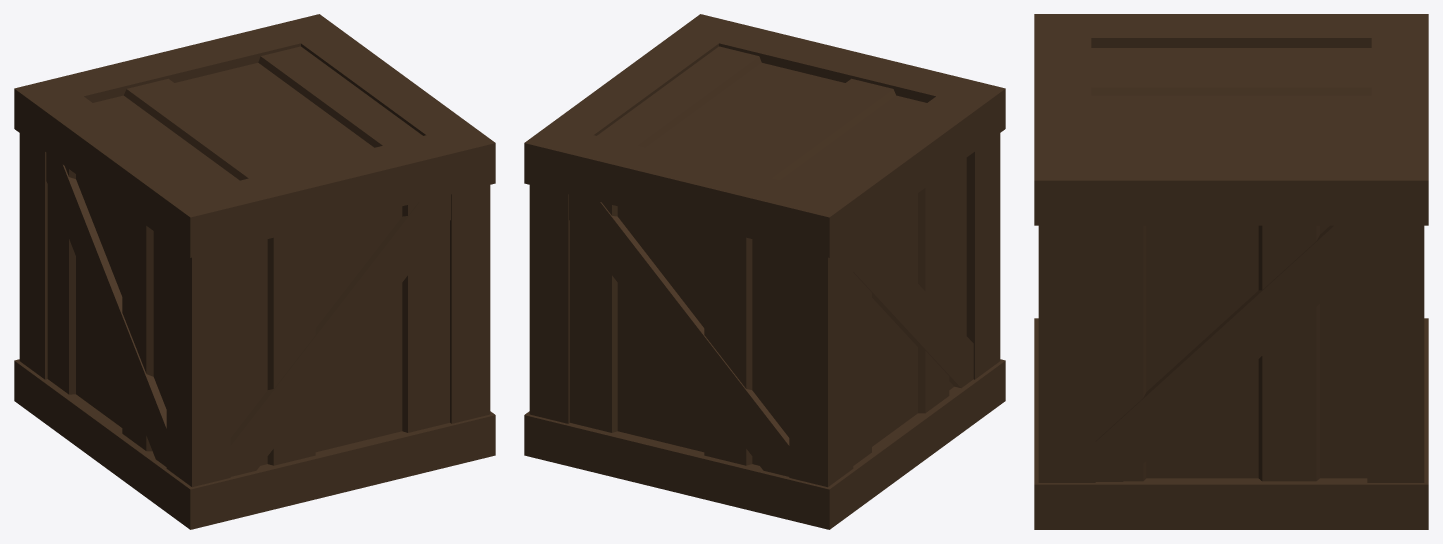
The model's file is supply-crate.obj.
3 views of the same model, side by side, from view 1: azimuth 30°, elevation 25°; view 2: azimuth 150°, elevation 25°; view 3: azimuth 270°, elevation 25° (orthographic). The views are drawn at different scales.
Size of the model in its own units: 1.08 by 1.06 by 1.08.
